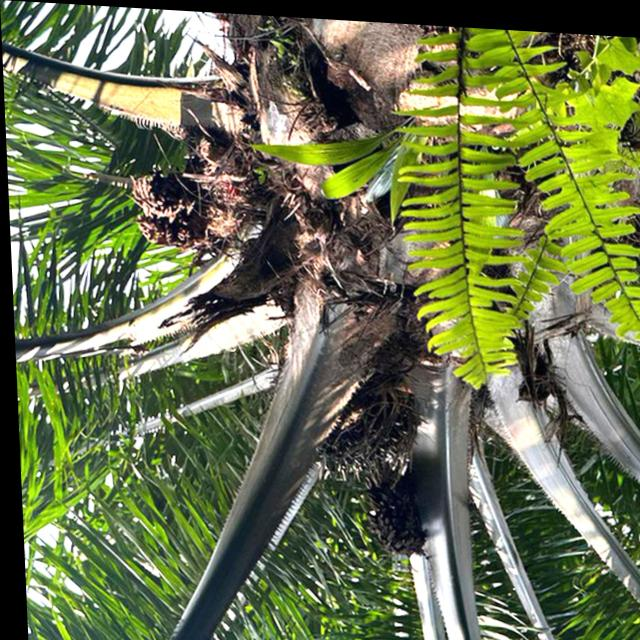ripe: (310, 360, 419, 489)
